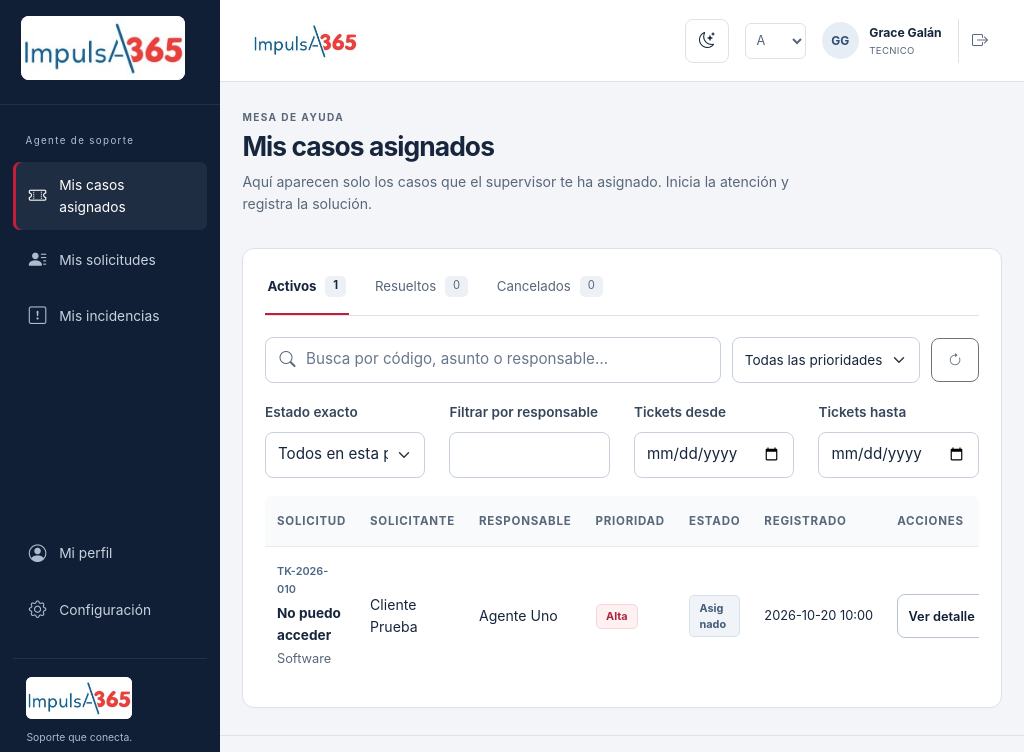
Test case: Funciones por rol › el agente atiende su asignación sin acceso a distribución ni gestión de usuarios
Expected: the heading "Mis casos asignados" is shown, [242,130,494,162]
Click the button "Ver detalle": (952, 616) [897,594,1008,638]
(page scrolled)
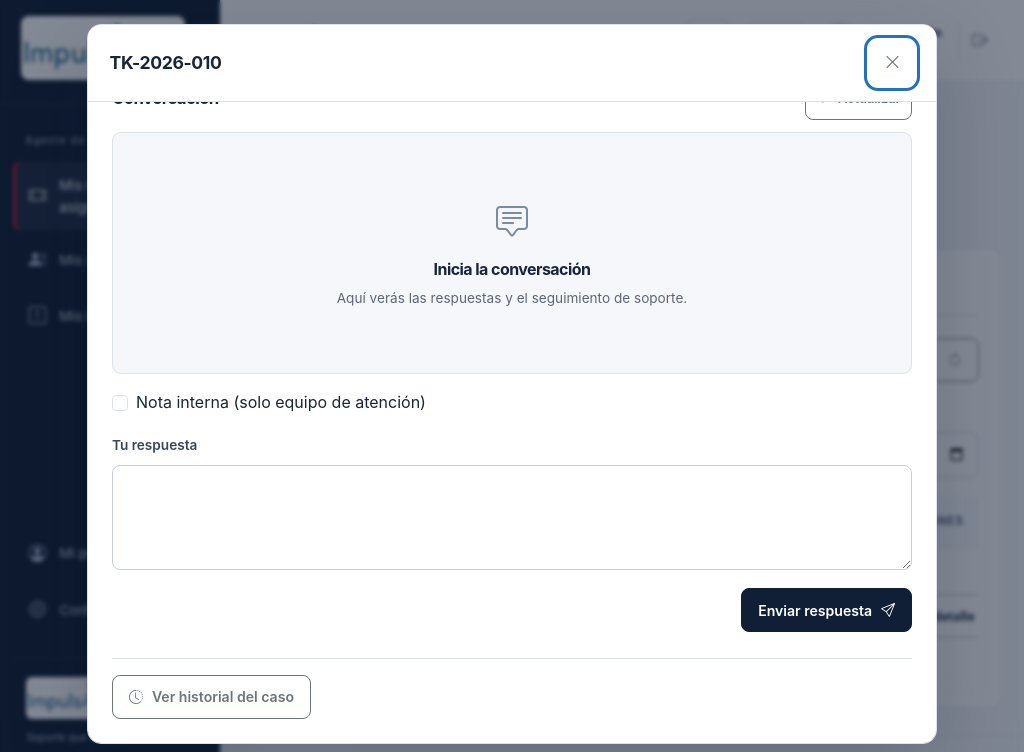
Now the button "Iniciar atención" is shown, box [112,24,250,52]
Now the checkbox labelled "Nota interna (solo equipo de atención)" is shown, box [112,395,128,411]
